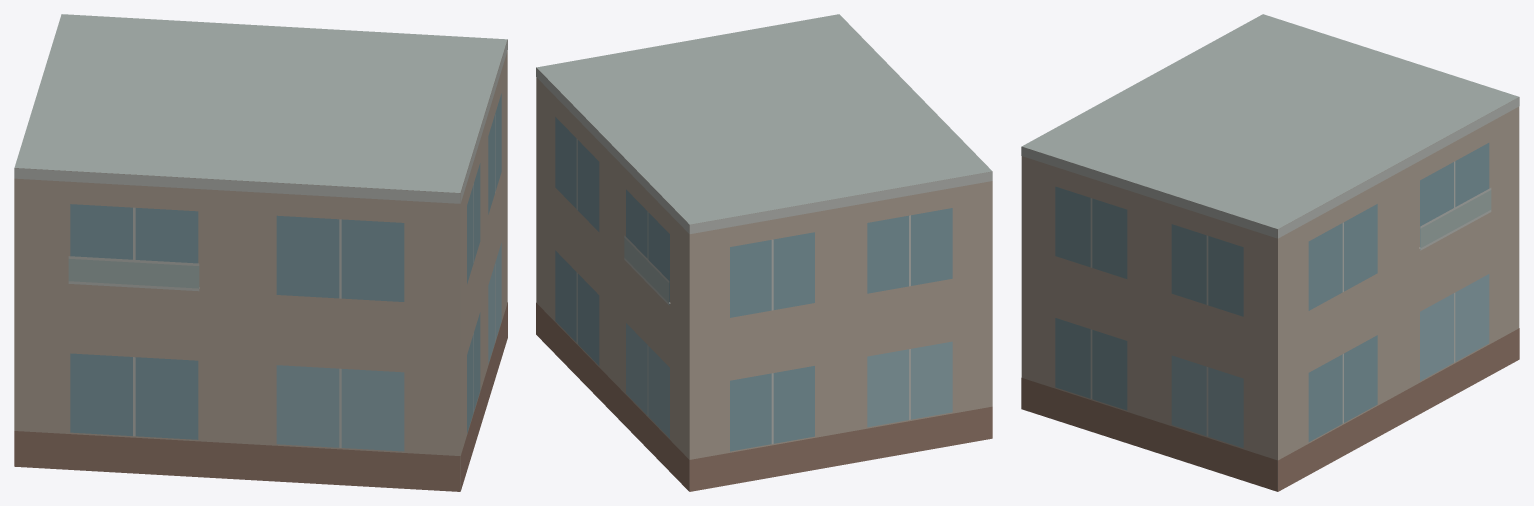
File: survey-upis-32718005.glb
The picture shows the model from 3 angles, left to right: view 1: azimuth 30°, elevation 25°; view 2: azimuth 150°, elevation 25°; view 3: azimuth 270°, elevation 25°; orthographic projection. The views are drawn at different scales.
Parts seen in each view (by area): view 1: survey-upis-32718005.tmp; view 2: survey-upis-32718005.tmp; view 3: survey-upis-32718005.tmp.
Boxes of the visible parts, bbox=[...] form: survey-upis-32718005.tmp: bbox=[14, 14, 507, 491]; survey-upis-32718005.tmp: bbox=[536, 14, 992, 491]; survey-upis-32718005.tmp: bbox=[1021, 14, 1519, 491].
Bounding box in the file's own units: 11.89 × 6.76 × 11.62.
